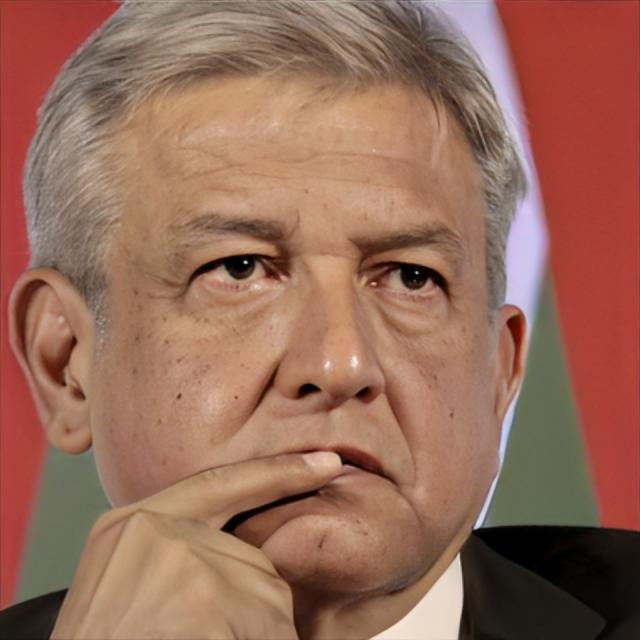anger: (102, 62, 499, 594)
